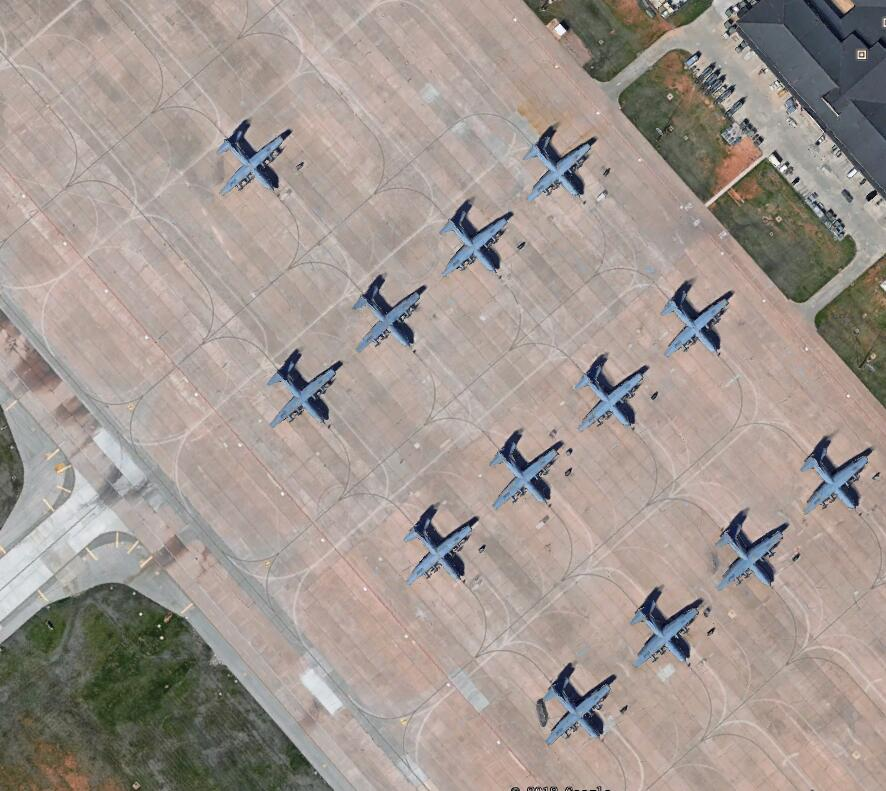A2: (431, 190, 523, 282), (533, 660, 620, 748), (258, 346, 344, 431), (481, 426, 567, 511), (209, 113, 291, 201), (349, 272, 434, 355), (399, 501, 481, 587), (657, 275, 740, 359), (627, 587, 710, 671), (569, 348, 652, 431), (796, 438, 875, 516), (521, 124, 599, 201), (714, 515, 793, 591)
